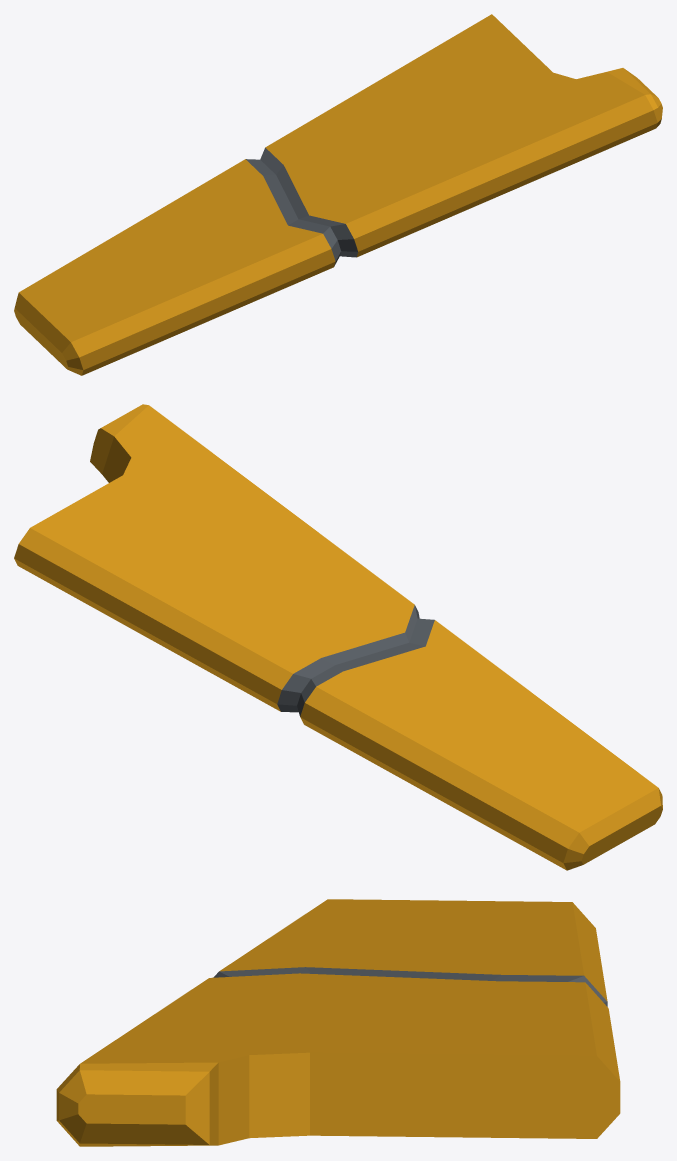
File: Fighter_07_Auxillary_Wing_Right_Yellow.fbx
The picture shows the model from 3 angles, top to bottom: view 1: azimuth 30°, elevation 25°; view 2: azimuth 150°, elevation 25°; view 3: azimuth 270°, elevation 25°; orthographic projection. The views are drawn at different scales.
Visible parts, largest first — view 1: Fighter_07_Auxillary_Wing_Right_Yellow; view 2: Fighter_07_Auxillary_Wing_Right_Yellow; view 3: Fighter_07_Auxillary_Wing_Right_Yellow.
Boxes of the visible parts, <box> form: Fighter_07_Auxillary_Wing_Right_Yellow: <box>14,14,662,375</box>; Fighter_07_Auxillary_Wing_Right_Yellow: <box>14,404,662,870</box>; Fighter_07_Auxillary_Wing_Right_Yellow: <box>56,899,620,1146</box>.
Bounding box in the file's own units: 412 × 149 × 186.
1 material, 1 textured.
